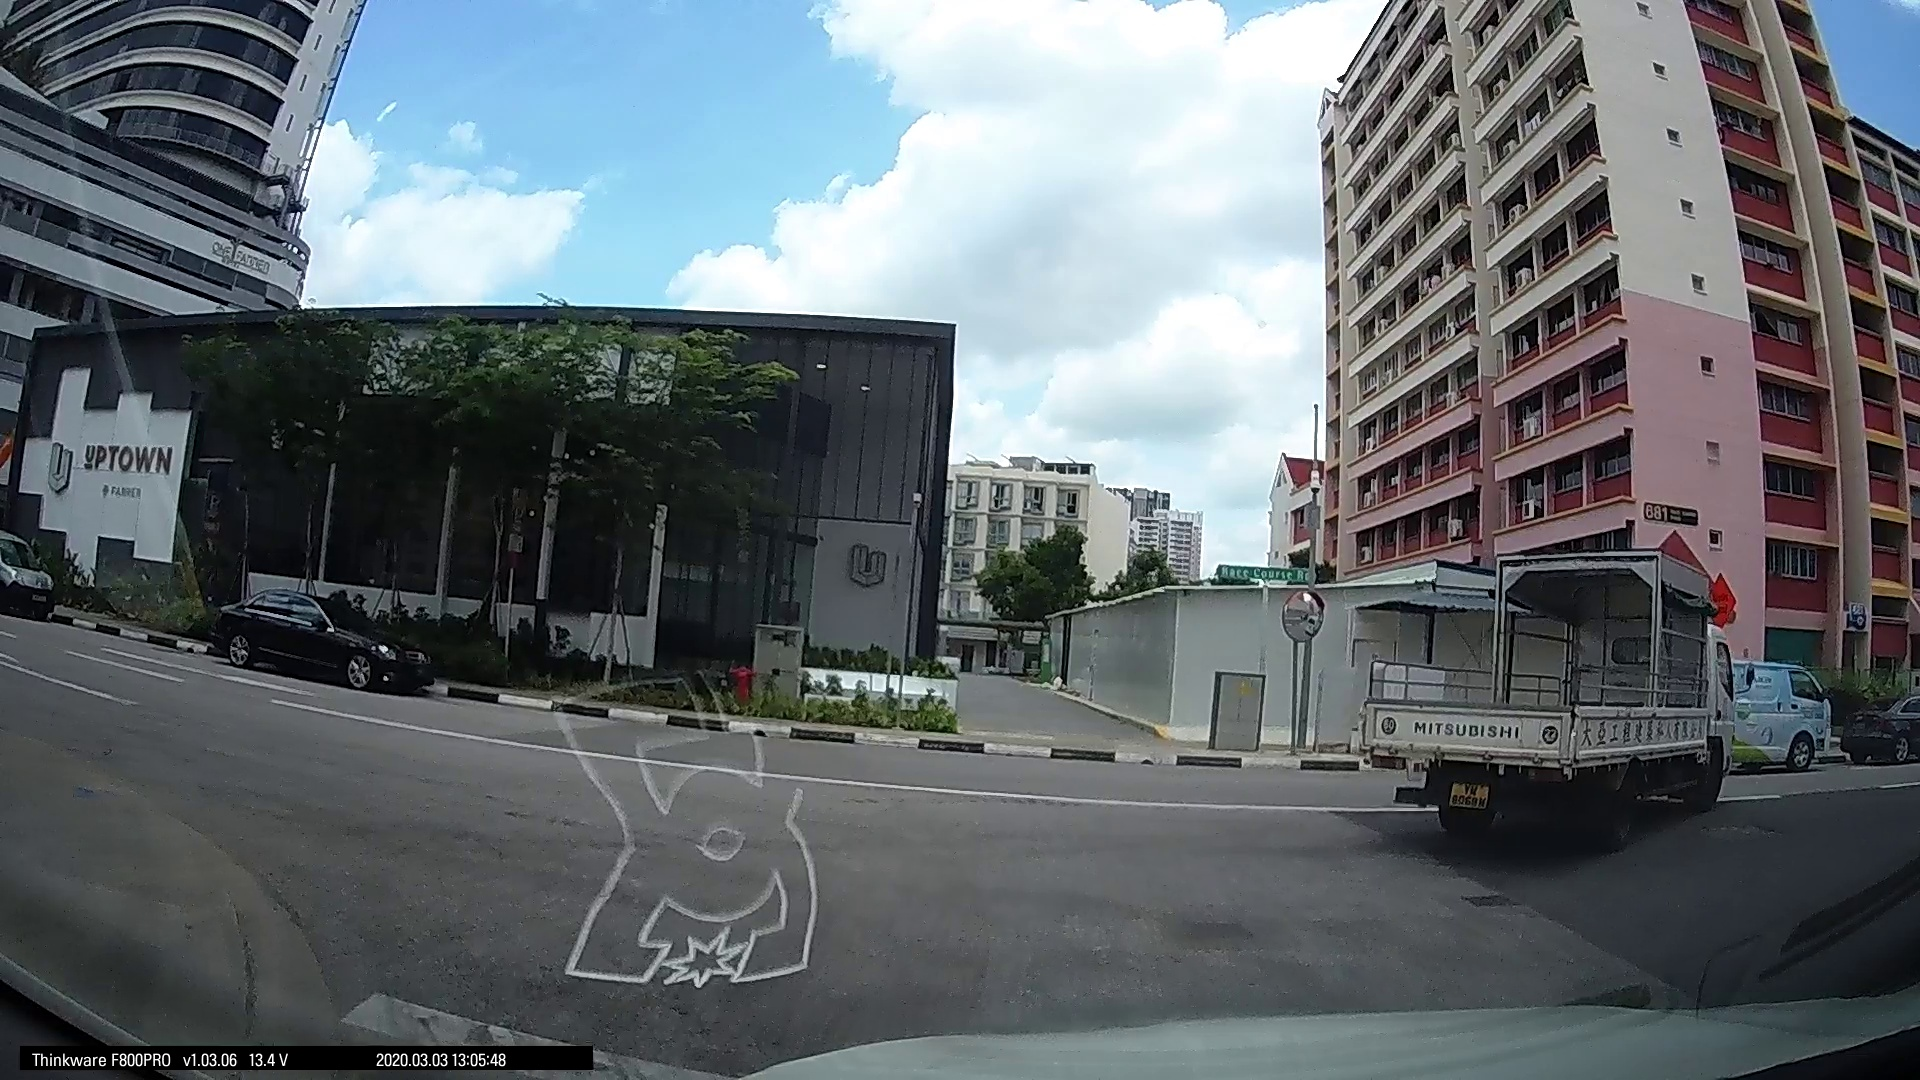Heavy Vehicle: (1357, 549, 1727, 839)
Light Vehicle: (200, 579, 417, 688), (1724, 658, 1841, 771), (1844, 695, 1917, 767)
